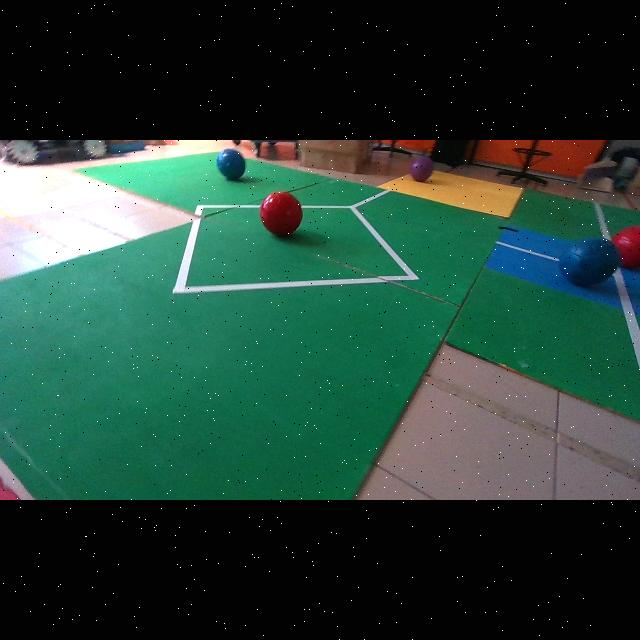B: (559, 238, 620, 286), (216, 149, 246, 180)
P: (411, 157, 434, 182)
R: (260, 191, 302, 237), (612, 226, 640, 269)
